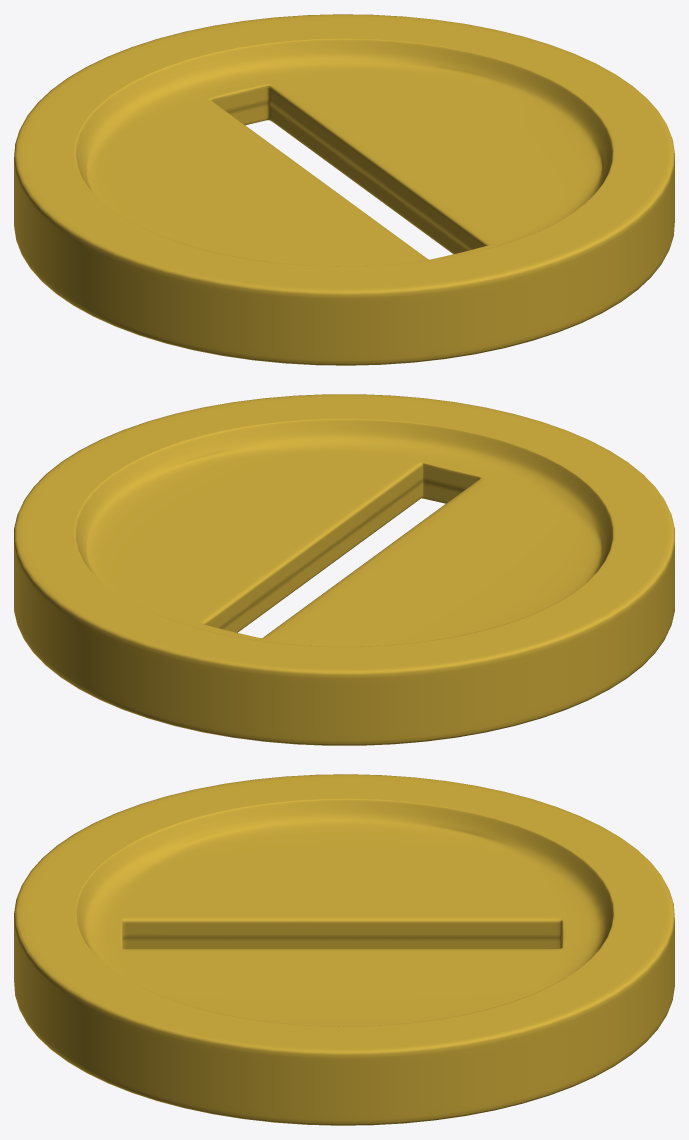
File: coin.glb
3 views of the same model, one above another, from view 1: azimuth 30°, elevation 25°; view 2: azimuth 150°, elevation 25°; view 3: azimuth 270°, elevation 25° (orthographic).
Visible parts, largest first — view 1: Plane; view 2: Plane; view 3: Plane.
Part boxes in pixels (x1,y1,x2,y2): Plane: (14,14,674,365); Plane: (14,394,674,745); Plane: (14,774,674,1125).
Size of the model in its own units: 2.52 by 0.3139 by 2.52.
